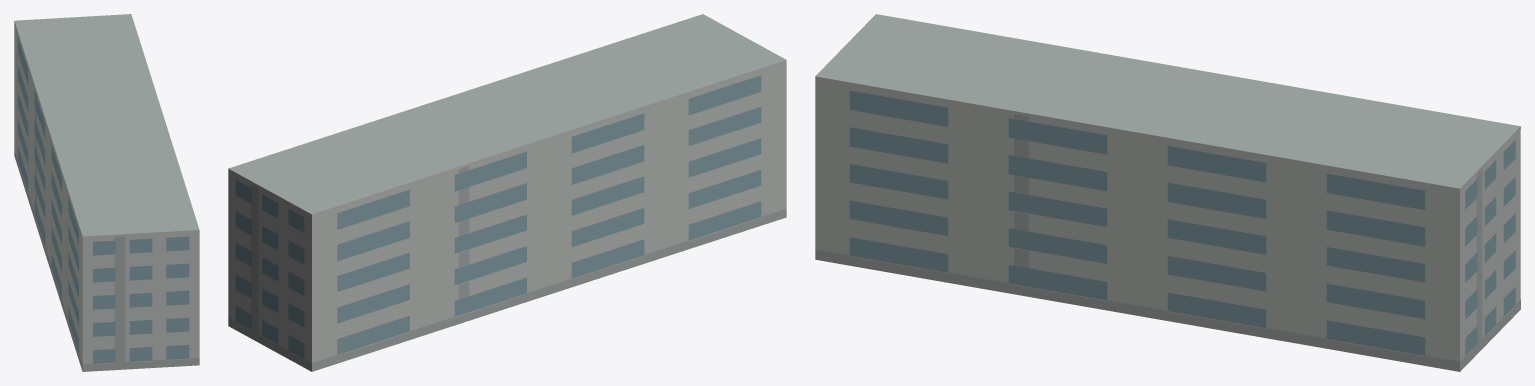
File: residential-5871750b-7628-4fc7-ab09-21a768936eb6.glb
3 views of the same model, side by side, from view 1: azimuth 30°, elevation 25°; view 2: azimuth 150°, elevation 25°; view 3: azimuth 270°, elevation 25° (orthographic). The views are drawn at different scales.
Visible parts, largest first — view 1: residential-5871750b-7628-4fc7-ab09-21a768936eb6.tmp; view 2: residential-5871750b-7628-4fc7-ab09-21a768936eb6.tmp; view 3: residential-5871750b-7628-4fc7-ab09-21a768936eb6.tmp.
Boxes of the visible parts, x1,y1,x2,y2 form: residential-5871750b-7628-4fc7-ab09-21a768936eb6.tmp: [14, 14, 199, 371]; residential-5871750b-7628-4fc7-ab09-21a768936eb6.tmp: [228, 14, 786, 371]; residential-5871750b-7628-4fc7-ab09-21a768936eb6.tmp: [815, 14, 1520, 371].
Size of the model in its own units: 31.18 by 15.25 by 53.22.
